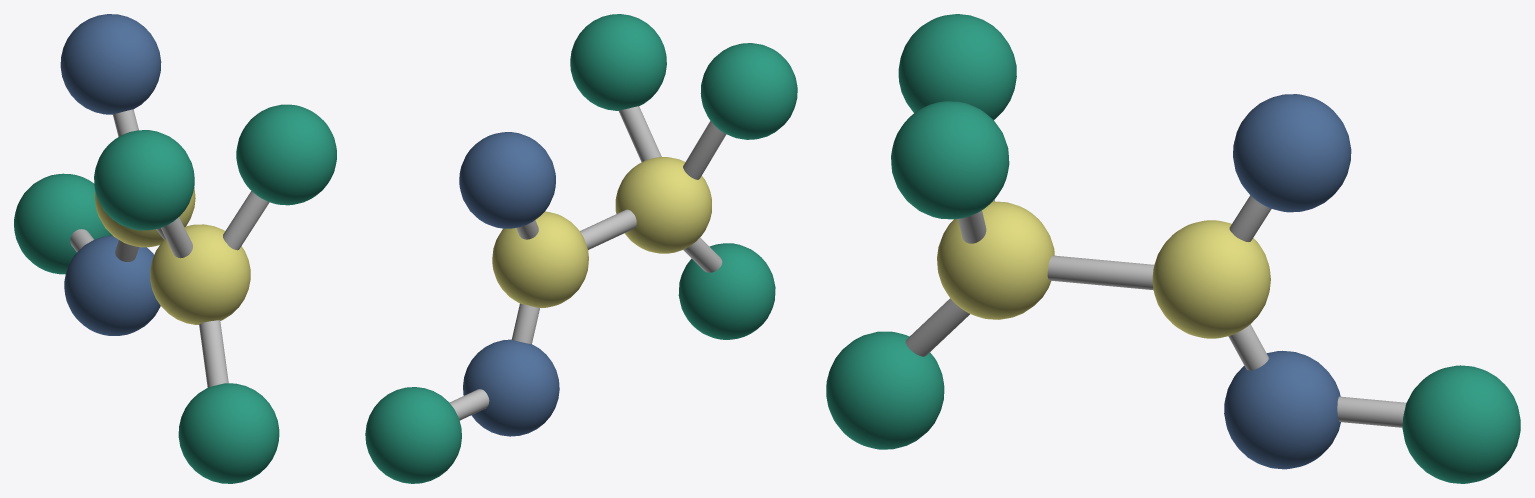
File: uksos.gltf
3 renders of one model, left to right at view 1: azimuth 30°, elevation 25°; view 2: azimuth 150°, elevation 25°; view 3: azimuth 270°, elevation 25°, orthographic. The views are drawn at different scales.
Parts seen in each view (by area): view 1: Sphere.005, Sphere.001, Sphere.002, 2, 4, 5, 1, 6, 7; view 2: Sphere.005, Sphere.001, Sphere.002, 4, 5, 3, 6, 2, 7; view 3: Sphere.005, Sphere.001, Sphere.002, 3, 7, 2, 1, 6.
Part boxes in pixels (<box>): Sphere.005: <box>14,104,336,483</box>; Sphere.001: <box>60,14,161,335</box>; Sphere.002: <box>94,187,250,324</box>; 2: <box>199,320,228,387</box>; 4: <box>223,191,269,250</box>; 5: <box>161,217,192,258</box>; 1: <box>113,109,138,136</box>; 6: <box>115,240,139,261</box>; 7: <box>70,229,93,252</box>; Sphere.005: <box>365,14,797,483</box>; Sphere.001: <box>459,132,559,436</box>; Sphere.002: <box>492,157,711,308</box>; 4: <box>619,106,661,162</box>; 5: <box>683,121,726,179</box>; 3: <box>580,209,636,249</box>; 6: <box>511,303,539,344</box>; 2: <box>683,237,722,272</box>; 7: <box>449,389,489,420</box>; Sphere.005: <box>826,14,1520,483</box>; Sphere.001: <box>1224,94,1351,469</box>; Sphere.002: <box>937,201,1270,338</box>; 3: <box>1047,255,1154,290</box>; 7: <box>1337,396,1406,427</box>; 2: <box>905,298,969,356</box>; 1: <box>1229,195,1271,241</box>; 6: <box>1228,324,1268,370</box>.
Size of the model in its own units: 5.18 by 7.32 by 11.71.
